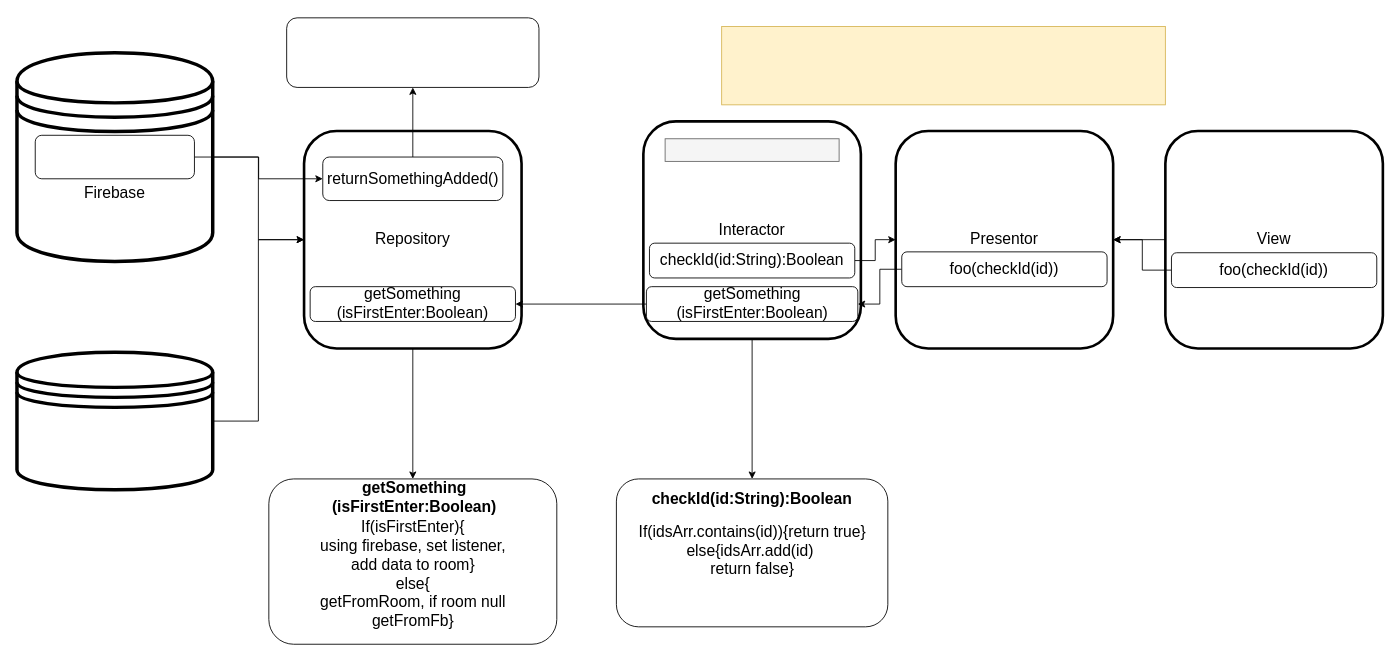
The diagram is 1399 pixels wide and 659 high, and some of its shapes have lost their labels. The centre of each missing label's shape, as x and y in pixels:
if(daoHasSomething()) dao.update(something) else dao.insert(something): [412,52]
onDataChange: [114,156]
private val idsArr = null: [751,149]
Room: [114,420]
Work with get data when we need set listener and one entyty (for example user): [943,65]
